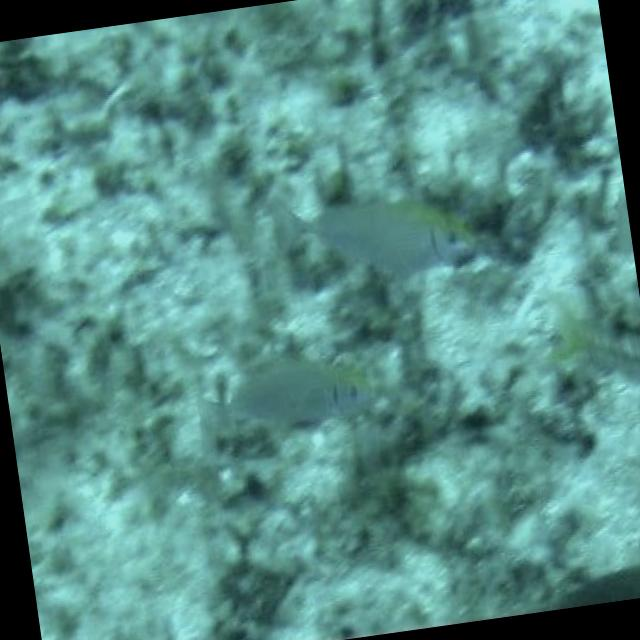Sokar Baligi: (261, 154, 492, 320), (178, 334, 408, 465)
